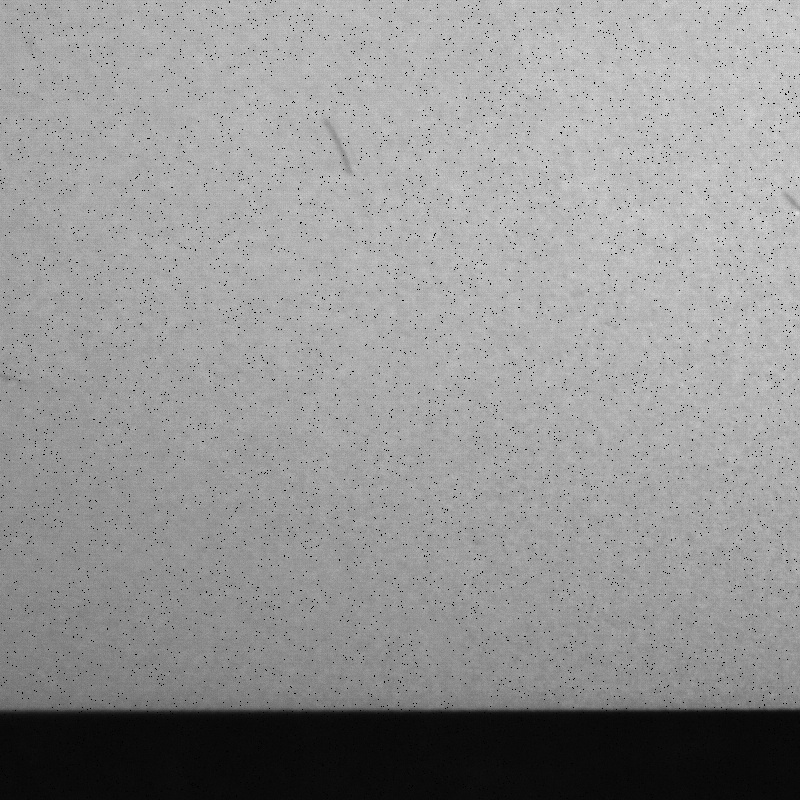defect: (317, 113, 361, 180), (778, 186, 800, 217)
